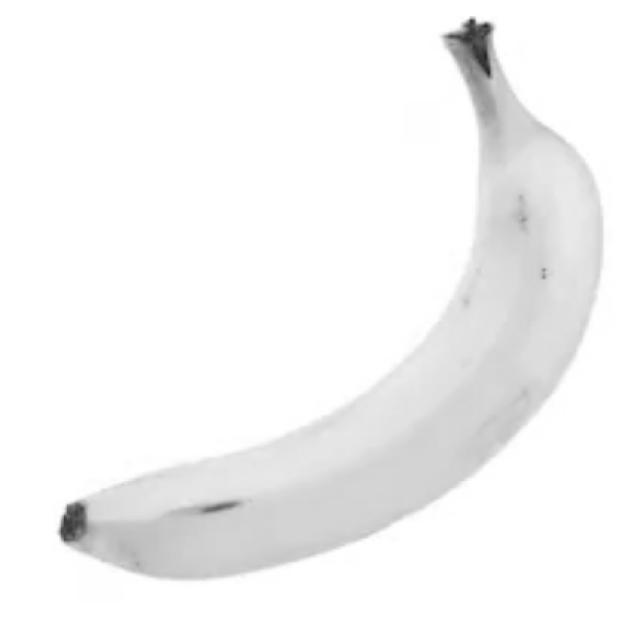Ripe: (15, 23, 640, 593)
